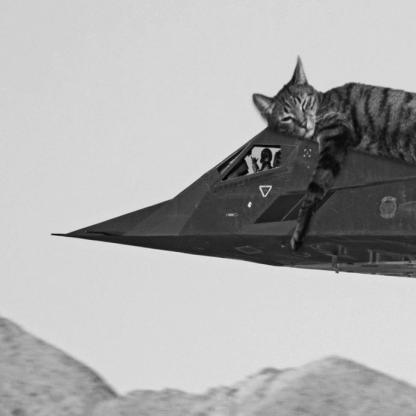F117: (51, 127, 416, 281)
